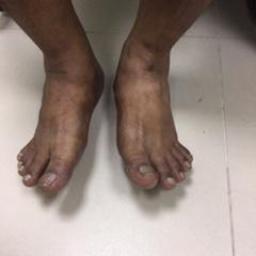Front View -Both Feet-: (8, 33, 202, 205)
